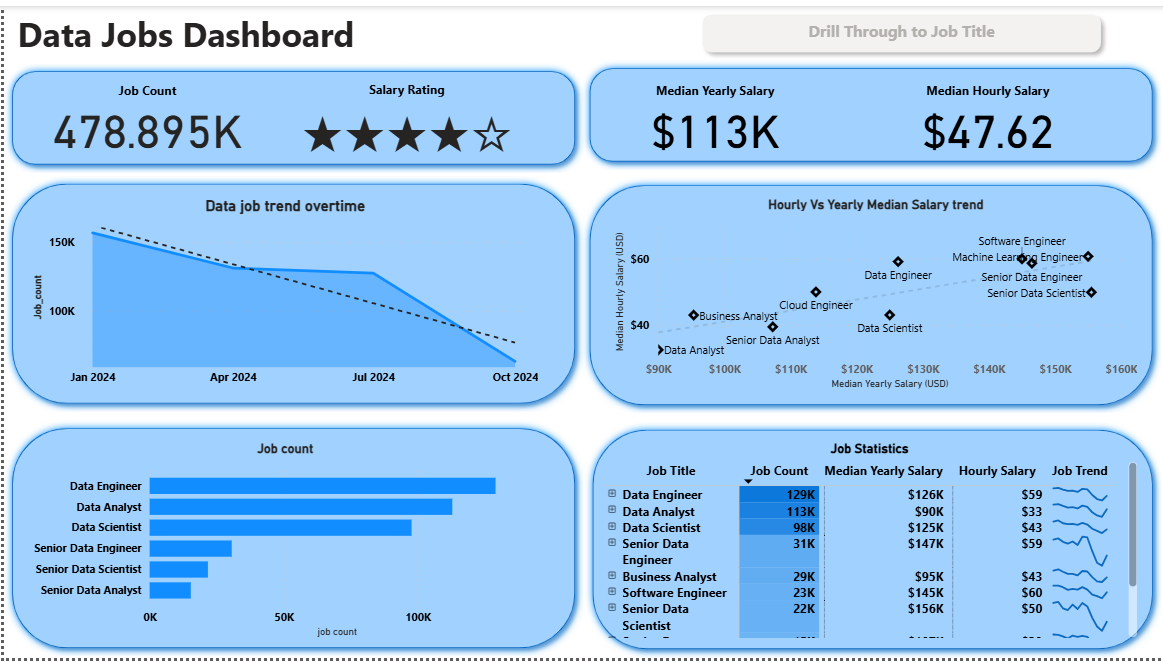

The page's visual inventory and layout, read from the dashboard file:
{"tool":"powerbi","page":{"name":"Data Jobs Dashboard","canvas":[1280,720],"ordinal":0},"visuals":[{"type":"group","id":"g1","title":"Background fill","box":[0,60,1278.3,660],"z":0},{"type":"shape","box":[0,63,639.7,121.4],"z":0,"group":"g1"},{"type":"textbox","box":[10,0,435,63.3],"z":1000},{"type":"shape","box":[638.2,60,639.7,121.4],"z":1000,"group":"g1"},{"type":"cardVisual","fields":{"Data":["Median(job_postings_flat.salary_year_avg)"]},"box":[608.7,60.6,355.8,127.2],"z":2000},{"type":"shape","box":[0,187.5,639.7,261],"z":2000,"group":"g1"},{"type":"cardVisual","fields":{"Data":["Median(job_postings_flat.salary_hour_avg)"]},"box":[894.9,60.6,384.6,127.2],"z":3000},{"type":"shape","box":[638.2,189,639.7,261],"z":3000,"group":"g1"},{"type":"cardVisual","fields":{"Data":["CountNonNull(job_postings_flat.job_title_short)"]},"box":[10,64.3,297.1,122.9],"z":4000},{"type":"shape","box":[0.1,457.7,639.7,261],"z":4000,"group":"g1"},{"type":"shape","box":[641.7,459.5,636.6,260.5],"z":5000,"group":"g1"},{"type":"barChart","title":"Job count","fields":{"Category":["job_postings_flat.job_title_short"],"Y":["CountNonNull(job_postings_flat.job_title_short)"]},"box":[25.7,480,568.6,221.4],"z":5000},{"type":"pivotTable","title":"Job Statistics","fields":{"Rows":["job_postings_flat.job_title_short","job_postings_flat.job_posted_date.Variation.Date Hierarchy.Quarter"],"Values":["CountNonNull(job_postings_flat.job_title_short)","Median(job_postings_flat.salary_year_avg)","Median(job_postings_flat.salary_hour_avg)","SparklineData(CountNonNull(job_postings_flat.job_title_short)_[job_postings_flat.job_posted_date.Variation.Date Hierarch"]},"box":[656.7,480,600,221.7],"z":6000},{"type":"scatterChart","title":"Hourly Vs Yearly Median Salary trend","fields":{"X":["Median(job_postings_flat.salary_year_avg)"],"Y":["Median(job_postings_flat.salary_hour_avg)"],"Category":["job_postings_flat.job_title_short"],"Series":["job_postings_flat.job_title_short"]},"box":[670,210,587.1,217.1],"z":7000},{"type":"lineChart","title":"Data job trend overtime","fields":{"Category":["job_postings_flat.job_posted_date.Variation.Date Hierarchy.Year","job_postings_flat.job_posted_date.Variation.Date Hierarchy.Quarter","job_postings_flat.job_posted_date.Variation.Date Hierarchy.Month","job_postings_flat.job_posted_date.Variation.Date Hierarchy.Day"],"Y":["CountNonNull(job_postings_flat.job_title_short)"]},"box":[25.7,210,568.6,217.1],"z":8000},{"type":"cardVisual","fields":{"Data":["job_postings_flat.Salary Rating"]},"box":[297.1,75.7,297.1,105.7],"z":9000},{"type":"actionButton","title":"Drill Through to Job Title","box":[761.7,0,458.3,60],"z":10000}]}

Visuals, with their boxes in screenshot pixels (x1, y1, x2, y2), scaled from the page's 1280x720 canvas onto the 1163x662 screenshot:
"Background fill" group: region(0, 55, 1161, 661)
shape: region(0, 58, 581, 170)
textbox: region(9, 0, 404, 58)
shape: region(580, 55, 1161, 167)
cardVisual - Median(job_postings_flat.salary_year_avg): region(553, 56, 876, 173)
shape: region(0, 172, 581, 412)
cardVisual - Median(job_postings_flat.salary_hour_avg): region(813, 56, 1162, 173)
shape: region(580, 174, 1161, 414)
cardVisual - CountNonNull(job_postings_flat.job_title_short): region(9, 59, 279, 172)
shape: region(0, 421, 581, 661)
shape: region(583, 422, 1161, 661)
"Job count" barChart: region(23, 441, 540, 645)
"Job Statistics" pivotTable: region(597, 441, 1142, 645)
"Hourly Vs Yearly Median Salary trend" scatterChart: region(609, 193, 1142, 393)
"Data job trend overtime" lineChart: region(23, 193, 540, 393)
cardVisual - job_postings_flat.Salary Rating: region(270, 70, 540, 167)
"Drill Through to Job Title" actionButton: region(692, 0, 1108, 55)
